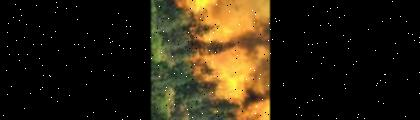fire: (150, 0, 269, 120)
